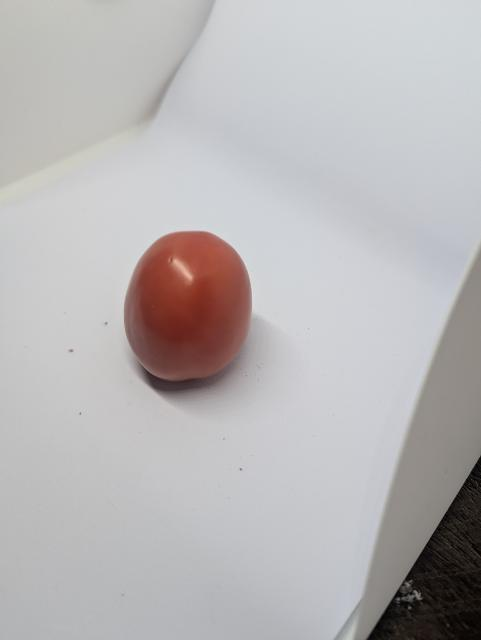red: (122, 229, 255, 385)
